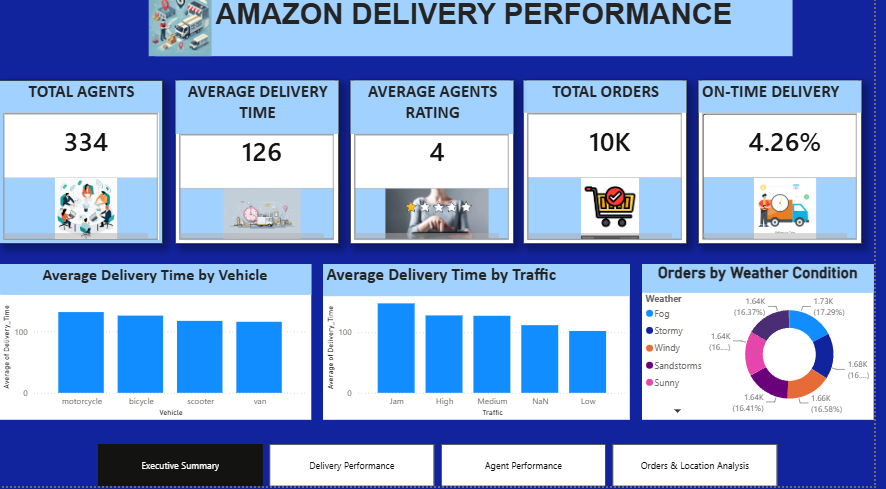

What the dashboard file says about the page in this screenshot:
{"tool":"powerbi","page":{"name":"Executive Summary","canvas":[1280,720],"ordinal":0},"visuals":[{"type":"cardVisual","title":"TOTAL ORDERS","fields":{"Data":["amazondelivery_db orders.Total Orders"]},"box":[766.3,126.1,240,240],"z":0},{"type":"cardVisual","title":"AVERAGE DELIVERY TIME","fields":{"Data":["amazondelivery_db delivery_details.Average Delivery Time"]},"box":[256.9,126.1,240,240],"z":1000},{"type":"cardVisual","title":"AVERAGE AGENTS RATING","fields":{"Data":["amazondelivery_db agents.Average Agens Rating"]},"box":[513.8,126.1,240,240],"z":2000},{"type":"textbox","box":[229,0,933.3,91.3],"z":3000},{"type":"image","box":[217.4,0,94.2,91.3],"z":4000},{"type":"cardVisual","title":"TOTAL AGENTS","fields":{"Data":["amazondelivery_db agents.Total Agents"]},"box":[0,126.1,240,240],"z":5000},{"type":"cardVisual","title":"ON-TIME DELIVERY","fields":{"Data":["amazondelivery_db delivery_details.On-Time Delivery %"]},"box":[1023.2,126.1,240,240],"z":6000},{"type":"clusteredColumnChart","title":"Average Delivery Time by Vehicle","fields":{"Category":["amazondelivery_db delivery_details.Vehicle"],"Y":["Avg(amazondelivery_db delivery_details.Delivery_Time)"]},"box":[0,395.7,456.5,227.5],"z":7000},{"type":"clusteredColumnChart","title":"Average Delivery Time by Traffic","fields":{"Y":["Avg(amazondelivery_db delivery_details.Delivery_Time)"],"Category":["amazondelivery_db delivery_details.Traffic"]},"box":[474.6,395.7,449.3,227.5],"z":8000},{"type":"donutChart","title":"Orders by Weather Condition","fields":{"Category":["amazondelivery_db delivery_details.Weather"],"Y":["CountNonNull(amazondelivery_db delivery_details.Order_ID)"]},"box":[940.9,395.7,339.1,227.5],"z":9000},{"type":"pageNavigator","box":[144.9,658,997.1,62.3],"z":10000}]}

Visuals, with their boxes in screenshot pixels (x1, y1, x2, y2), scaled from the page's 1280x720 canvas onto the 886x489 screenshot:
"TOTAL ORDERS" cardVisual: box=[530, 86, 697, 249]
"AVERAGE DELIVERY TIME" cardVisual: box=[178, 86, 344, 249]
"AVERAGE AGENTS RATING" cardVisual: box=[356, 86, 522, 249]
textbox: box=[159, 0, 805, 62]
image: box=[150, 0, 216, 62]
"TOTAL AGENTS" cardVisual: box=[0, 86, 166, 249]
"ON-TIME DELIVERY" cardVisual: box=[708, 86, 874, 249]
"Average Delivery Time by Vehicle" clusteredColumnChart: box=[0, 269, 316, 423]
"Average Delivery Time by Traffic" clusteredColumnChart: box=[329, 269, 640, 423]
"Orders by Weather Condition" donutChart: box=[651, 269, 885, 423]
pageNavigator: box=[100, 447, 790, 488]
